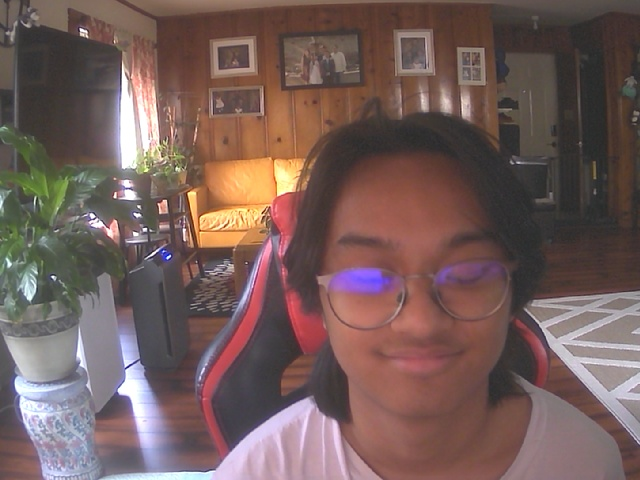happy: (305, 125, 530, 419)
